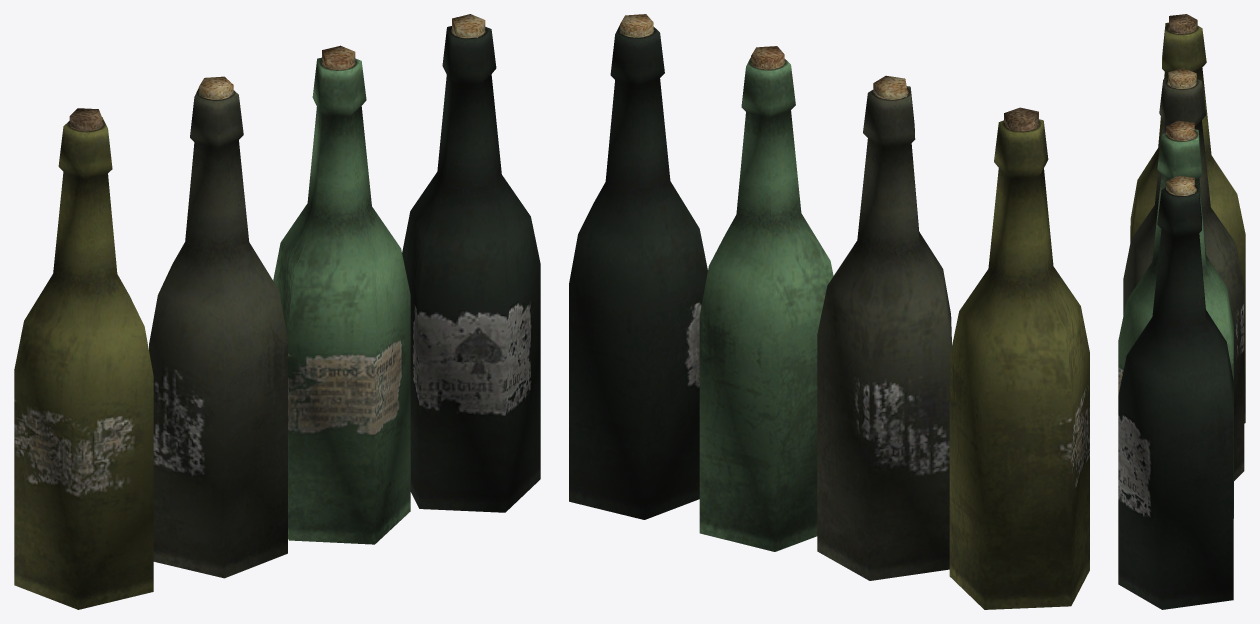
Rendered from wine_row.dae.
3 renders of one model, left to right at view 1: azimuth 30°, elevation 25°; view 2: azimuth 150°, elevation 25°; view 3: azimuth 270°, elevation 25°, orthographic. The views are drawn at different scales.
Visible parts, largest first — view 1: polySurface25; view 2: polySurface25; view 3: polySurface25.
Boxes of the visible parts, x1,y1,x2,y2 form: polySurface25: (14, 14, 540, 609); polySurface25: (569, 14, 1089, 609); polySurface25: (1118, 14, 1245, 609).
Bounding box in the file's own units: 0.4 × 0.3527 × 0.1013.
